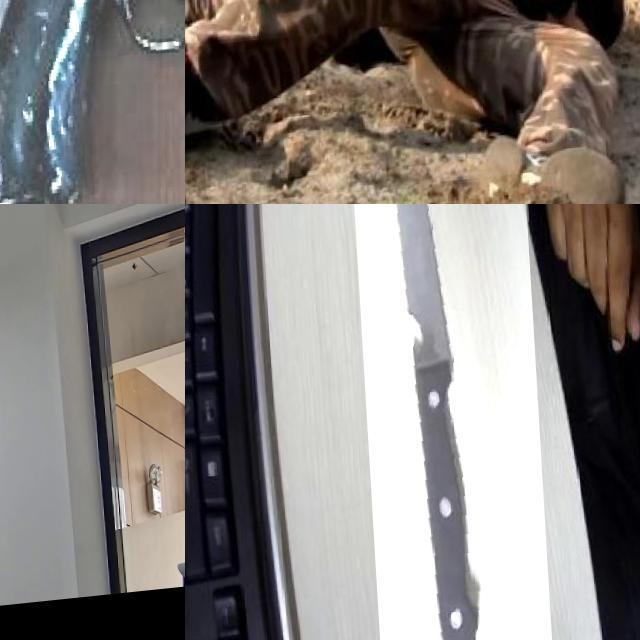-: (348, 204, 546, 640), (514, 0, 612, 32)
gun-knife-thesis - v11 Yolov5 augmented: (0, 0, 185, 204), (0, 208, 45, 402)
